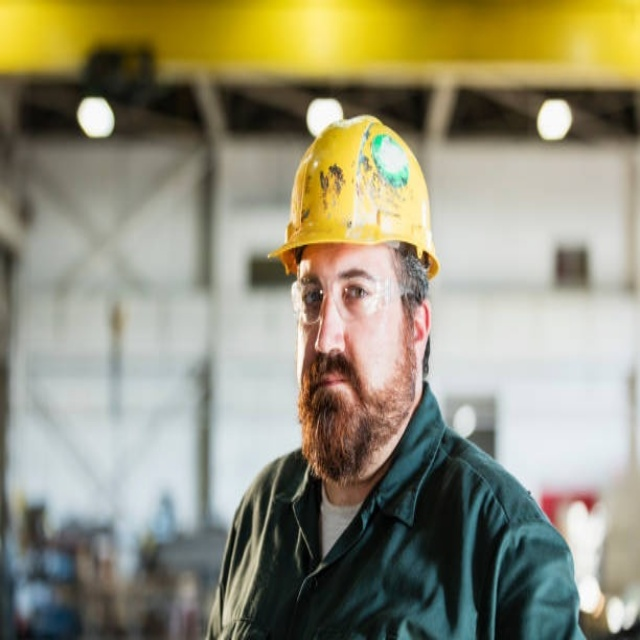Gafas: (289, 264, 416, 322)
Sin_mascara: (289, 359, 391, 475)
